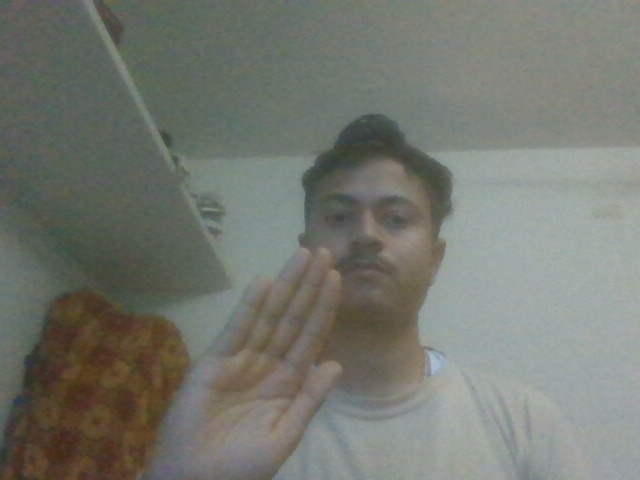Hello: (140, 237, 350, 480)
